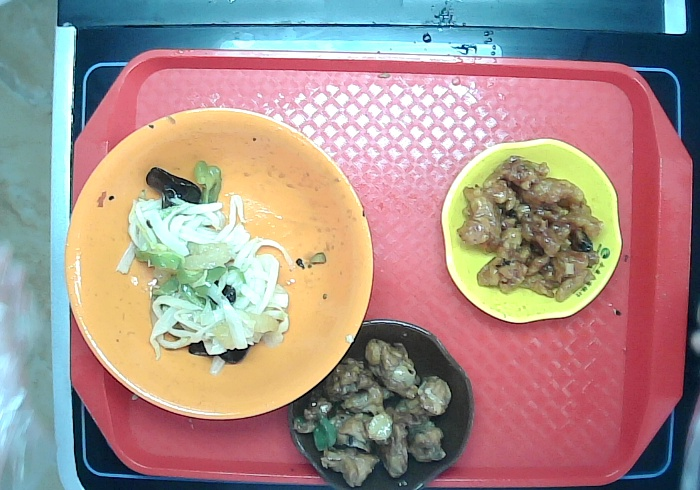YKMZ-Huang_Se_Ao_Bian_Wan: (438, 134, 623, 328)
YKMZ-Ju_Se_Tang_Wan: (61, 104, 375, 419)
YKMZ-Ka_Fei_Ao_Bian_Wan: (287, 320, 477, 490)
